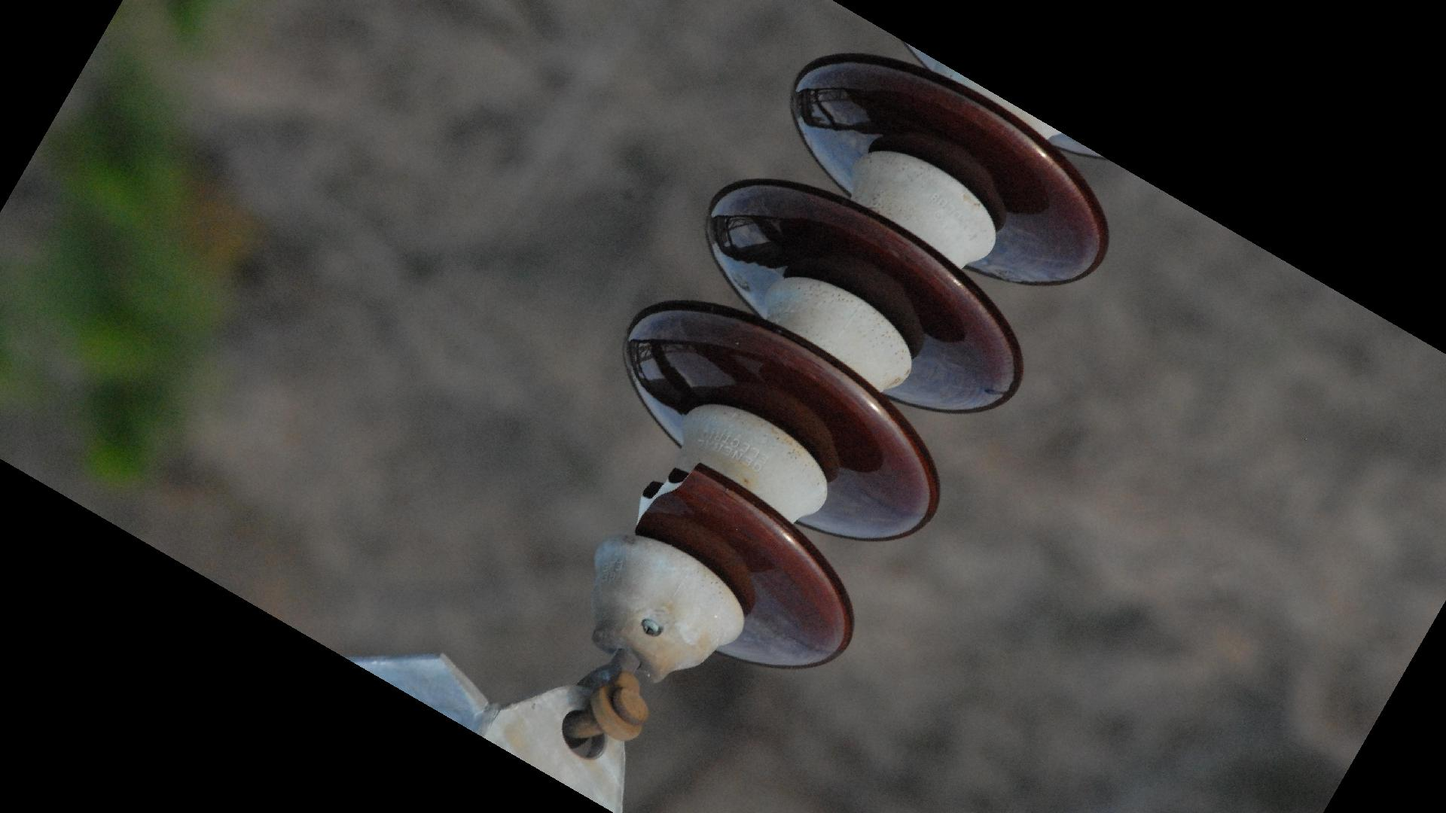insulator: (609, 47, 1118, 680)
insulator_breakage: (621, 452, 715, 538)
